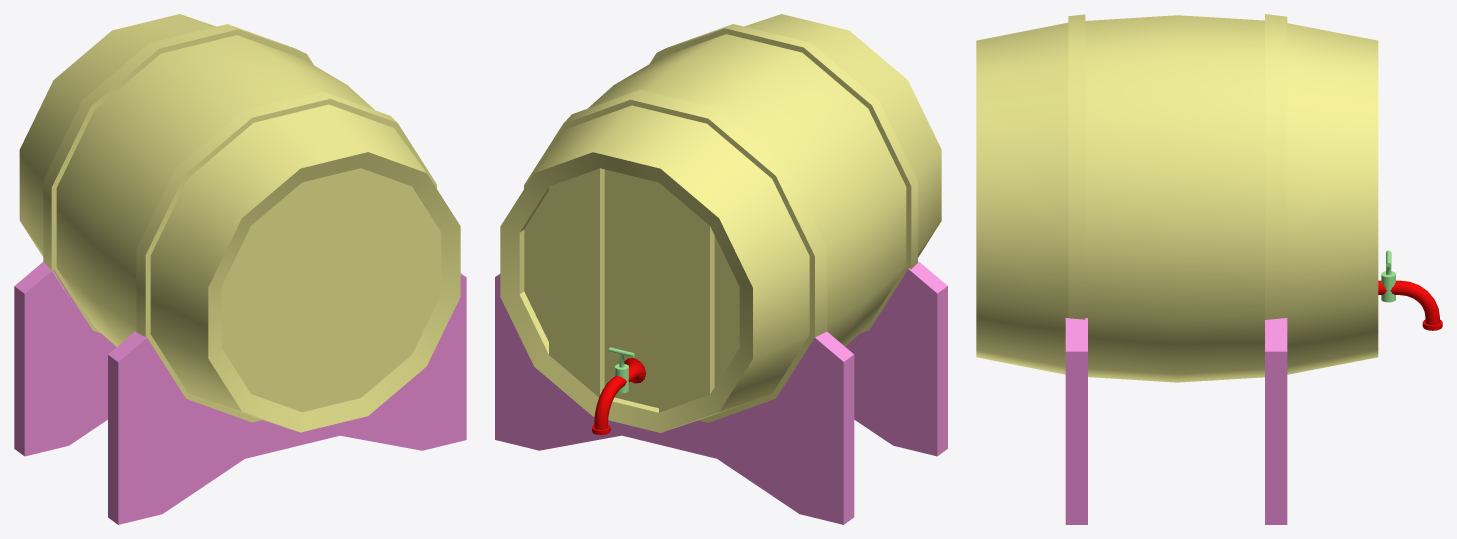
Rendered from Barrel with valve.FBX.
The picture shows the model from 3 angles, left to right: view 1: azimuth 30°, elevation 25°; view 2: azimuth 150°, elevation 25°; view 3: azimuth 270°, elevation 25°; orthographic projection. The views are drawn at different scales.
Visible parts, largest first — view 1: barrel, Object002; view 2: barrel, Object002, Torus001; view 3: barrel, Object002, Torus001.
Part boxes in pixels (x1,y1,x2,y2): barrel: [19, 14, 460, 432]; Object002: [14, 262, 466, 524]; barrel: [500, 14, 941, 432]; Object002: [495, 261, 947, 524]; Torus001: [592, 358, 645, 435]; barrel: [976, 14, 1378, 382]; Object002: [1065, 318, 1287, 524]; Torus001: [1378, 280, 1442, 330].
Size of the model in its own units: 1.04 by 1.07 by 1.13.
